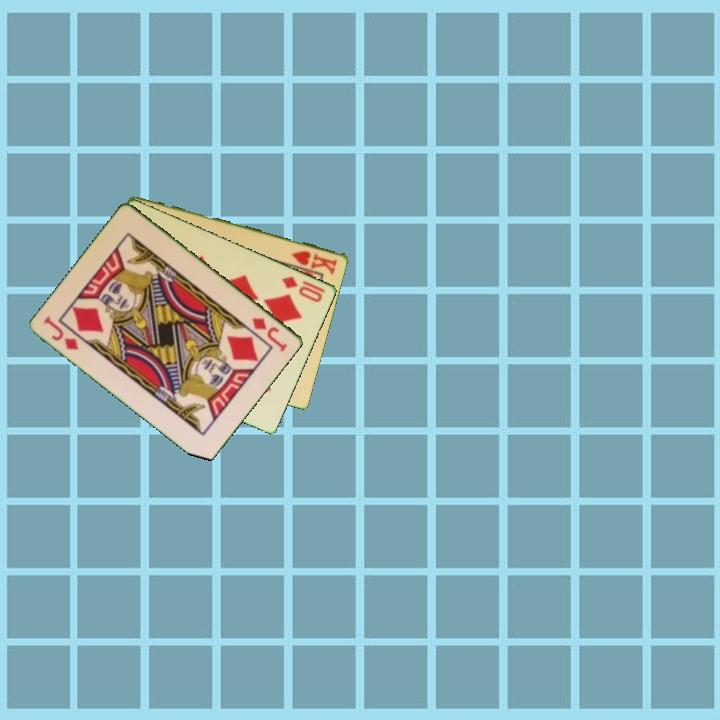10d: (278, 272, 328, 305)
Jd: (249, 314, 291, 355), (40, 312, 82, 353)
Kh: (288, 246, 340, 277)
